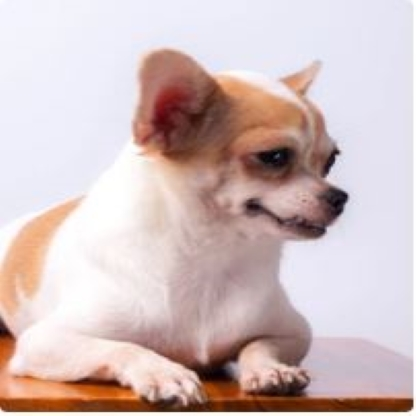chihuahua: (5, 43, 351, 409)
